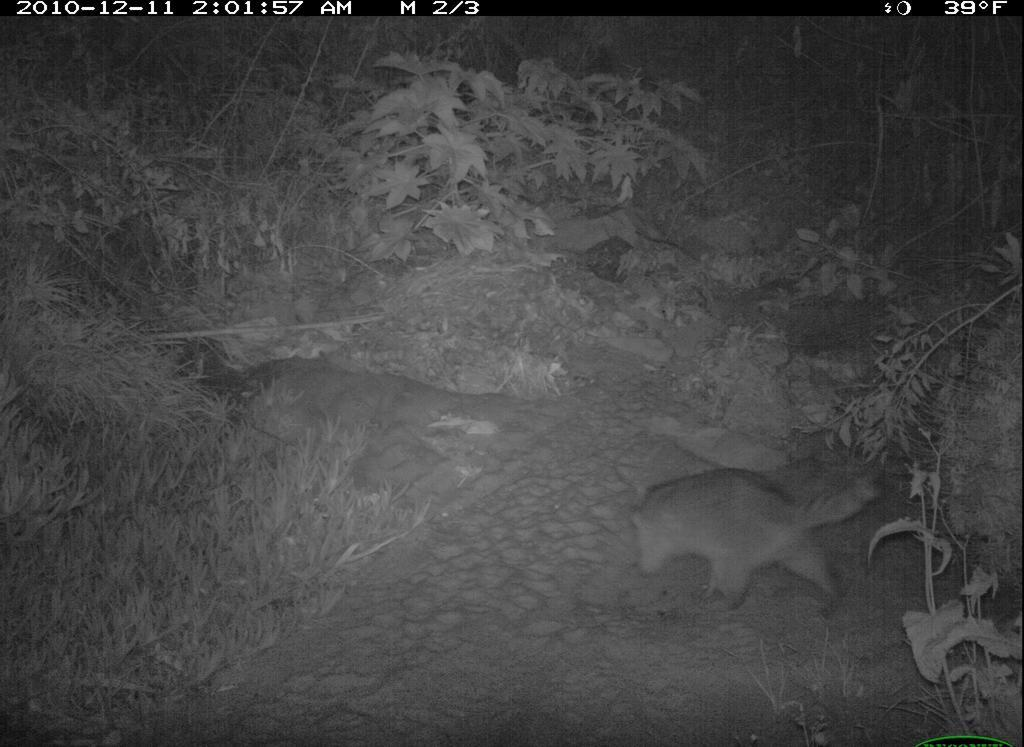raccoon: (623, 452, 889, 621)
